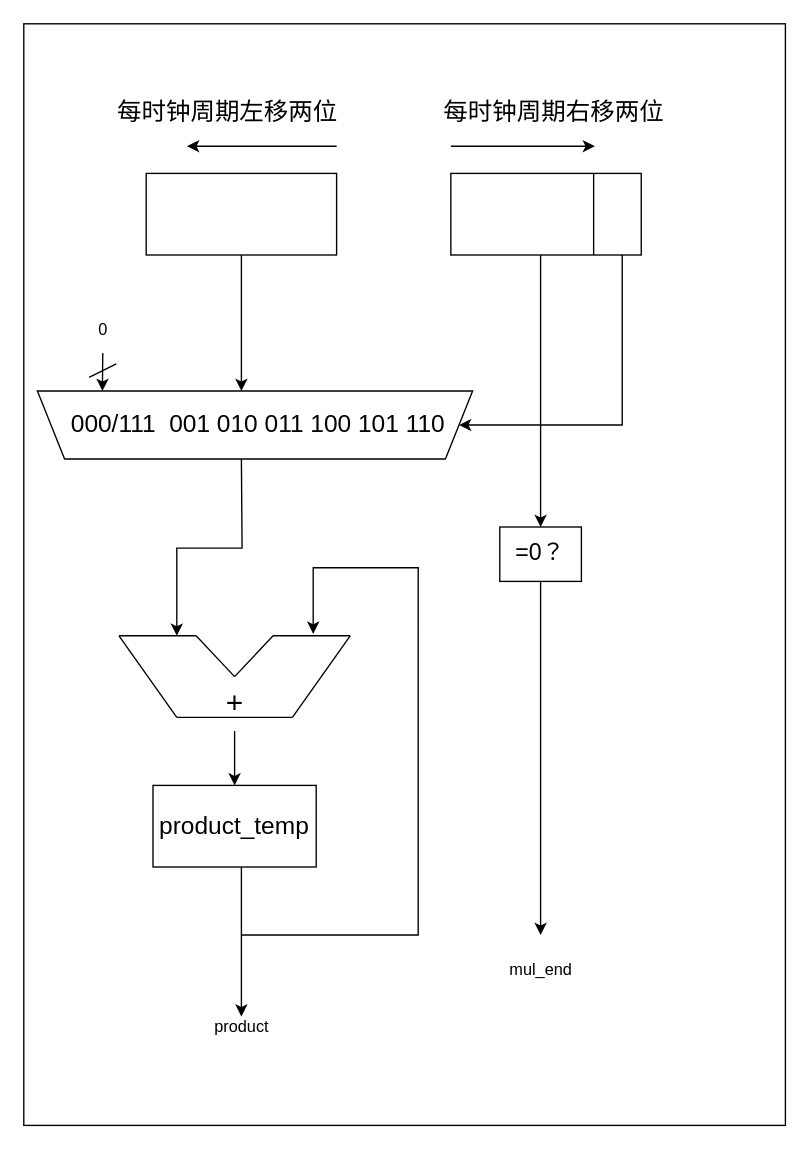
This 809x1149 diagram has some shape labels left out. The shapes that lost their labels are listed below. From the top down, each one's centre as x and y in pixels, then its label:
(241,213): A & 2A &-A &-2A
(545,213): multiplier 0
